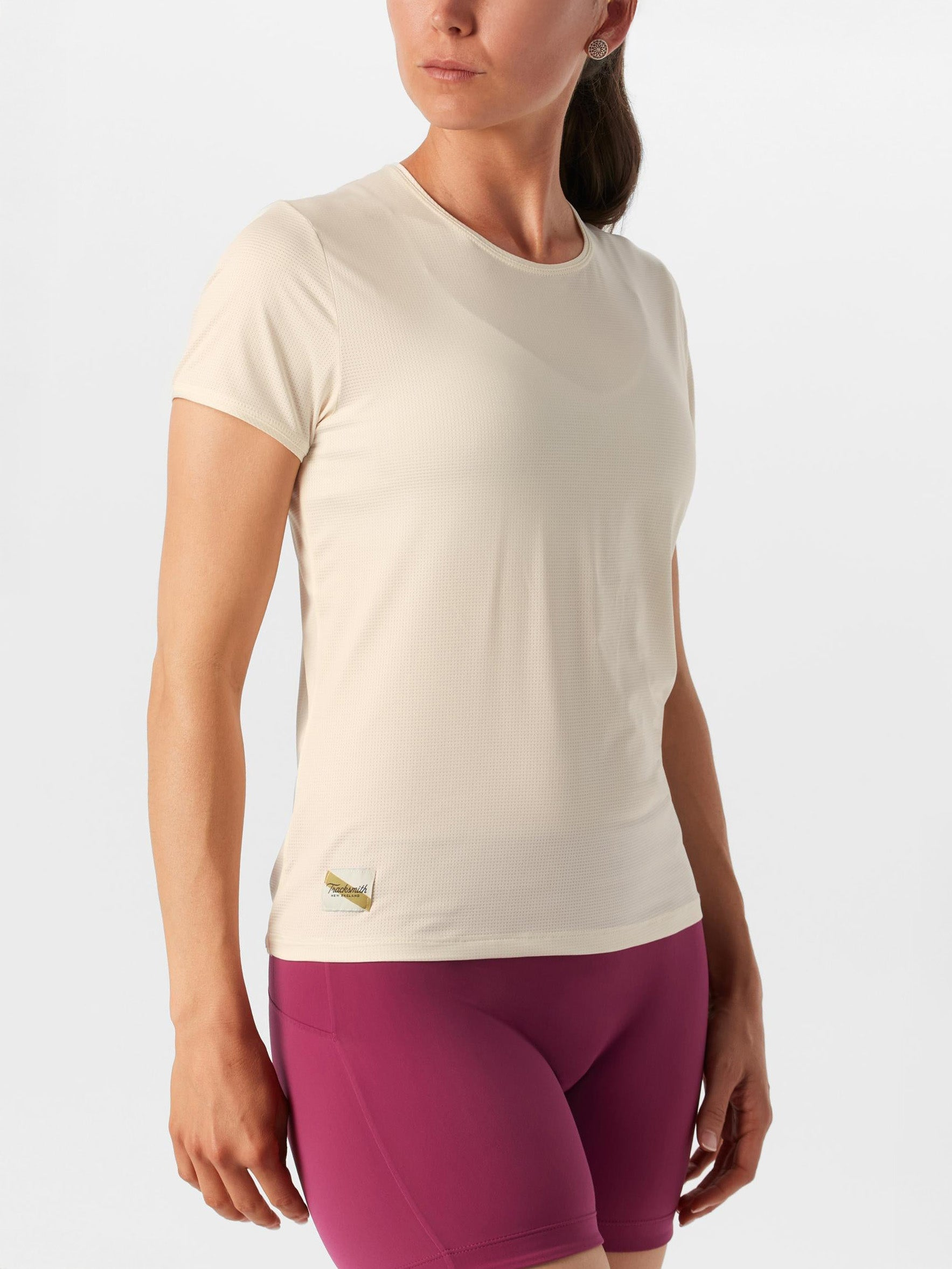egg: (95, 127, 856, 1141)
